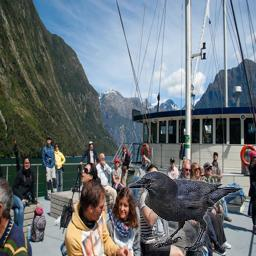Crow: (129, 171, 244, 251)
